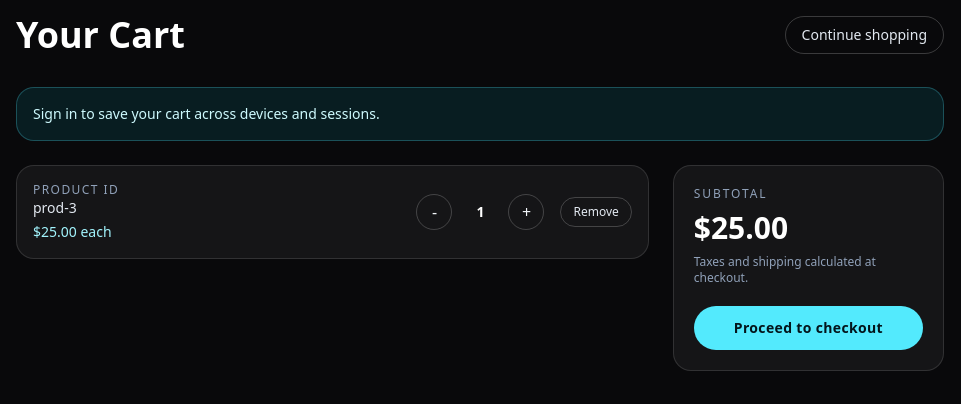
Test: CartClient › removes item and shows confirmation message
Expected: the text "prod-3" is shown, [33, 198, 77, 217]
Click the button "Remove". click: (596, 212)
box: [560, 197, 632, 227]
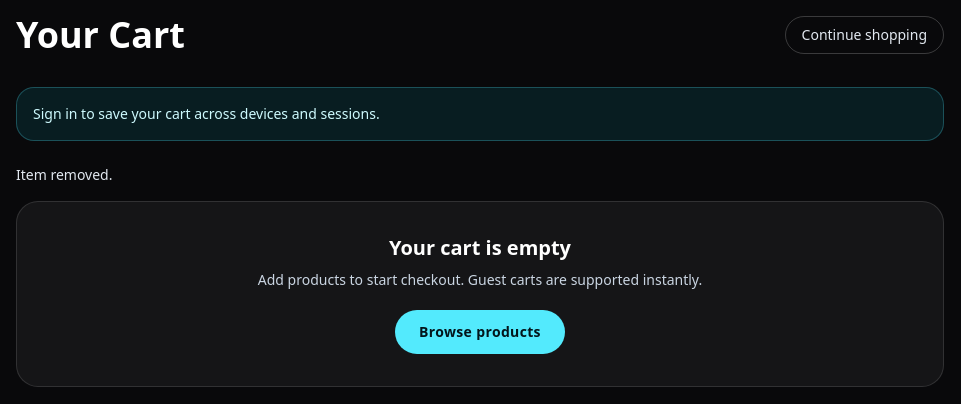
Expected: the text "Item removed." is shown, [16, 165, 112, 184]
Expected: the heading "Your cart is empty" is shown, [389, 234, 571, 261]
